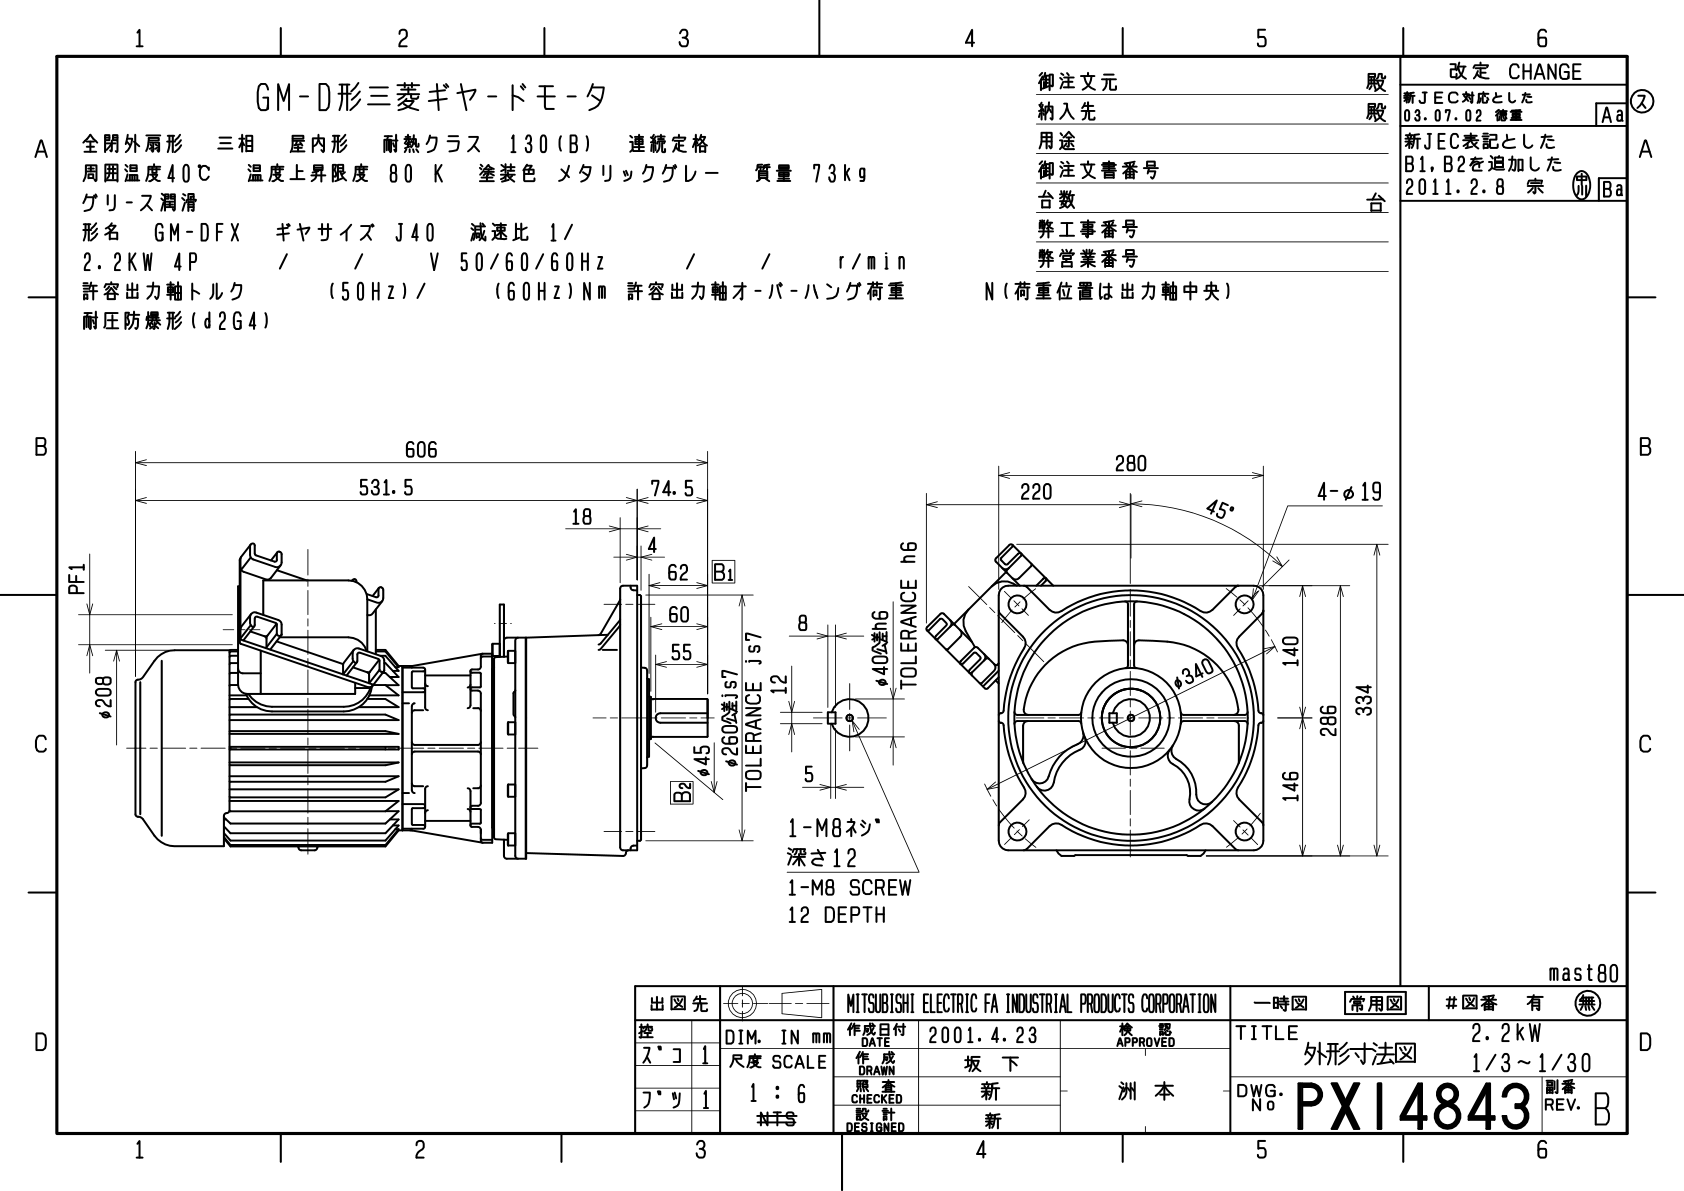GM_SP_屋内＿三相_フランジ: (61, 392, 1393, 956)
